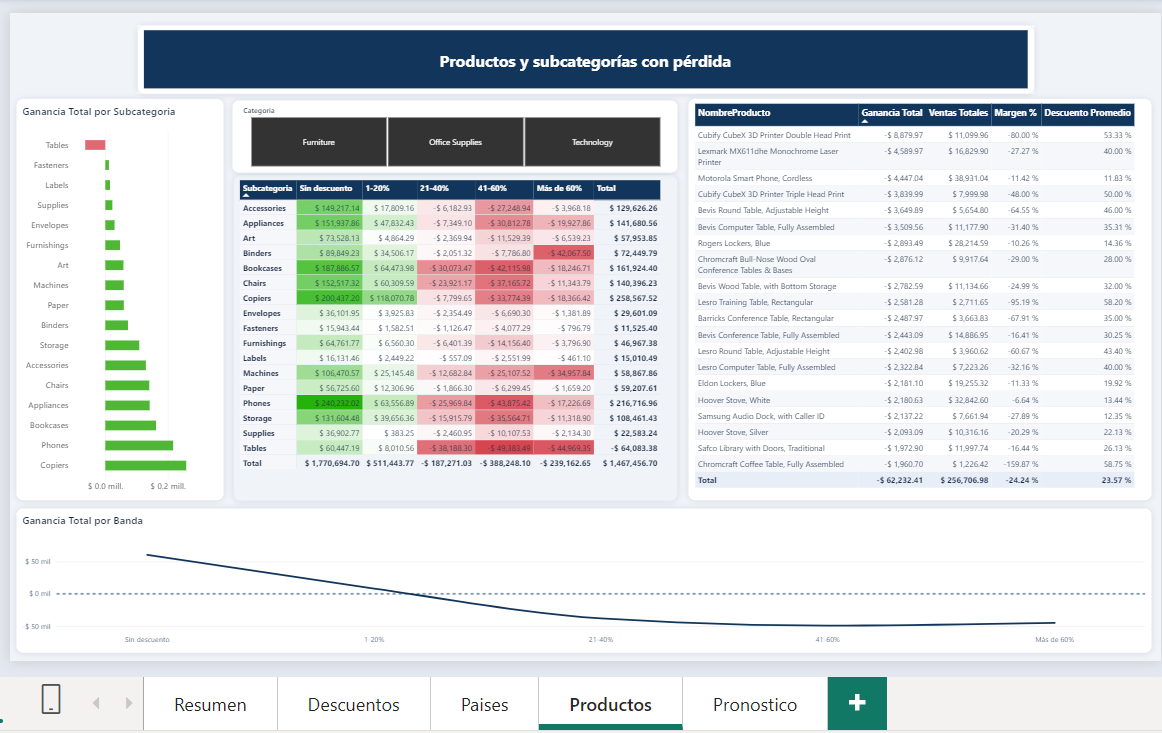

What the dashboard file says about the page in this screenshot:
{"tool":"powerbi","page":{"name":"Productos","canvas":[1920,1080],"ordinal":3},"visuals":[{"type":"slicer","fields":{"Values":["Dim_Producto.Categoria"]},"box":[339.9,296.2,700.3,112.3],"z":0},{"type":"clusteredBarChart","fields":{"Category":["Dim_Producto.Subcategoria"],"Y":["Fact_Ventas.Ganancia Total"]},"box":[29.2,296.2,299.1,608.4],"z":1},{"type":"tableEx","fields":{"Values":["Dim_Producto.NombreProducto","Fact_Ventas.Ganancia Total","Fact_Ventas.Ventas Totales","Fact_Ventas.Margen %","Fact_Ventas.Descuento Promedio"]},"box":[1056.8,296.2,849.1,608.4],"z":2},{"type":"pivotTable","fields":{"Columns":["Dim_Banda_Descuento.Banda"],"Rows":["Dim_Producto.Subcategoria"],"Values":["Fact_Ventas.Ganancia Total"]},"box":[339.9,421.6,700.3,482.9],"z":3},{"type":"lineChart","fields":{"Category":["Dim_Banda_Descuento.Banda"],"Y":["Fact_Ventas.Ganancia Total"]},"box":[29.2,0,1876.2,277.2],"z":4}]}

Visuals, with their boxes on the page's 1920x1080 design canvas (x1, y1, x2, y2). These are canvas units, not pixel positions in the 1162x733 screenshot, which may show the page scaled, cropped or inside an application window:
slicer - Dim_Producto.Categoria: [x1=340, y1=296, x2=1040, y2=408]
clusteredBarChart - Dim_Producto.Subcategoria x Fact_Ventas.Ganancia Total: [x1=29, y1=296, x2=328, y2=905]
tableEx - Dim_Producto.NombreProducto x Fact_Ventas.Ganancia Total: [x1=1057, y1=296, x2=1906, y2=905]
pivotTable - Dim_Banda_Descuento.Banda x Dim_Producto.Subcategoria: [x1=340, y1=422, x2=1040, y2=904]
lineChart - Dim_Banda_Descuento.Banda x Fact_Ventas.Ganancia Total: [x1=29, y1=0, x2=1905, y2=277]
